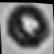correct: (2, 0, 53, 54)
